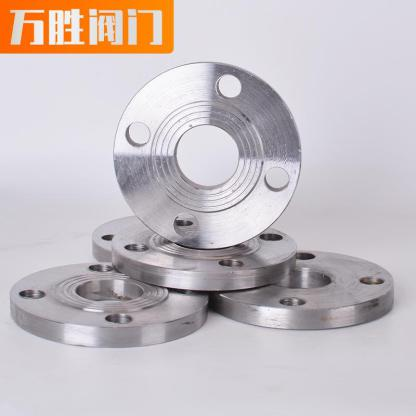FOD: (109, 58, 306, 252), (87, 207, 303, 295), (8, 257, 209, 351), (209, 245, 396, 334)
